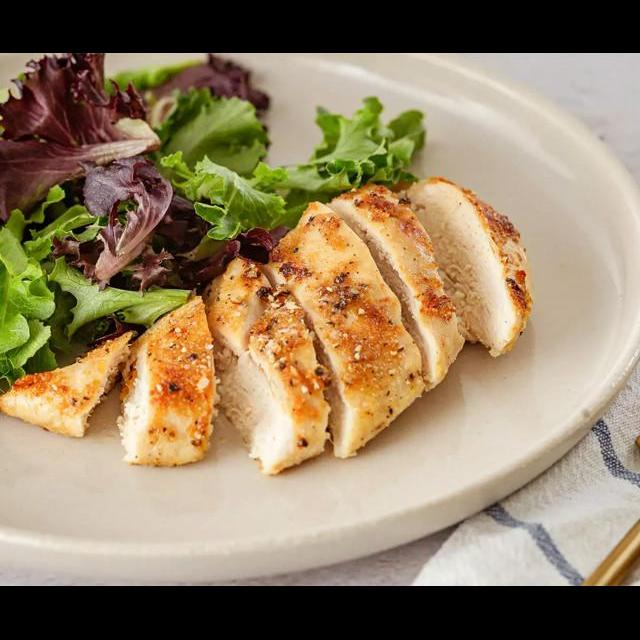thit ga: (255, 197, 428, 462), (194, 252, 335, 478), (322, 178, 469, 394), (383, 173, 535, 364), (110, 282, 222, 470), (0, 325, 140, 442)
